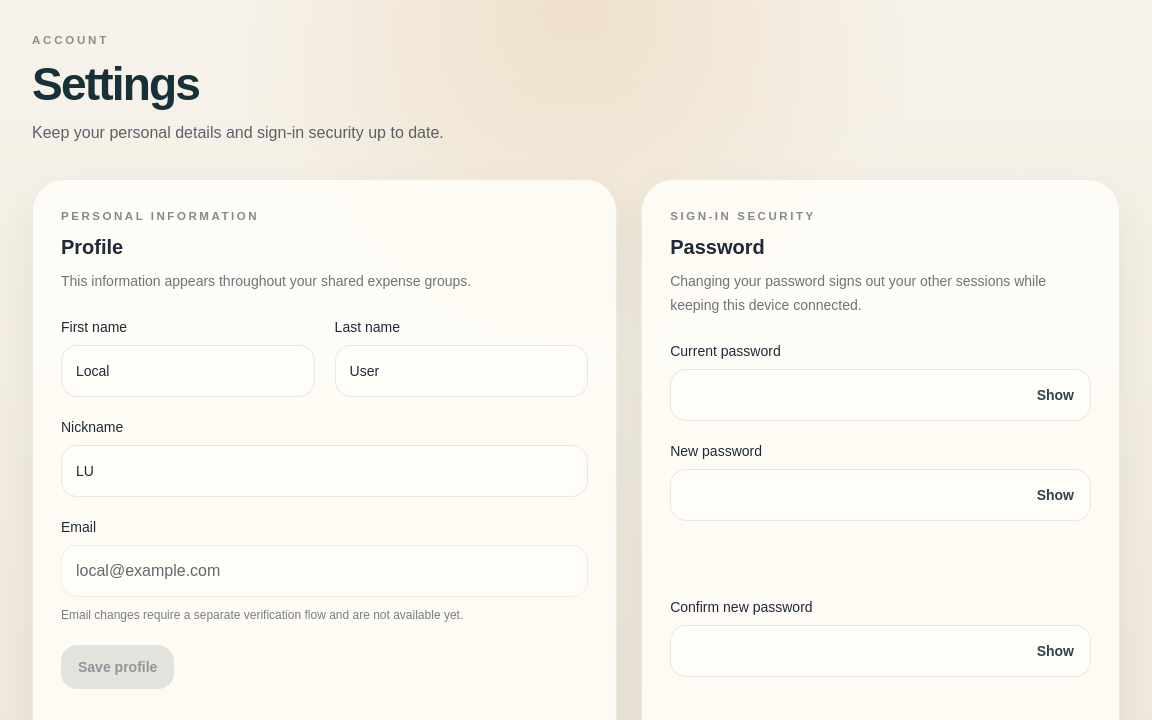
Test case: AccountSettings › updates editable profile fields while keeping email read-only
This screenshot has width=1152, height=720.
Check: the field labelled "Email" holds "local@example.com", box [61,545,588,597]
Check: the button "Save profile" is disabled, box [61,645,174,689]
Replace the text in the field labelled "First name" with " Taylor " at (188, 371), box [61,345,315,397]
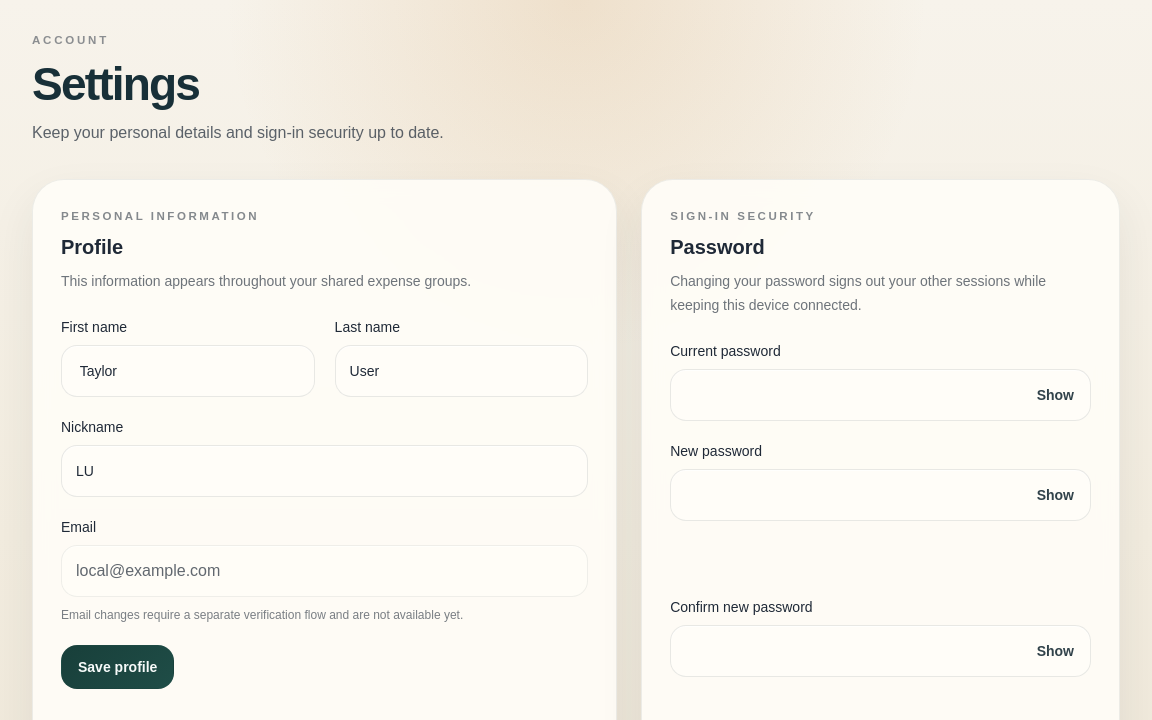
Check: the button "Save profile" is enabled, box [61,645,174,689]
Replace the text in the field labelled "Last name" with " Swift " at (461, 371), box [335,345,588,397]
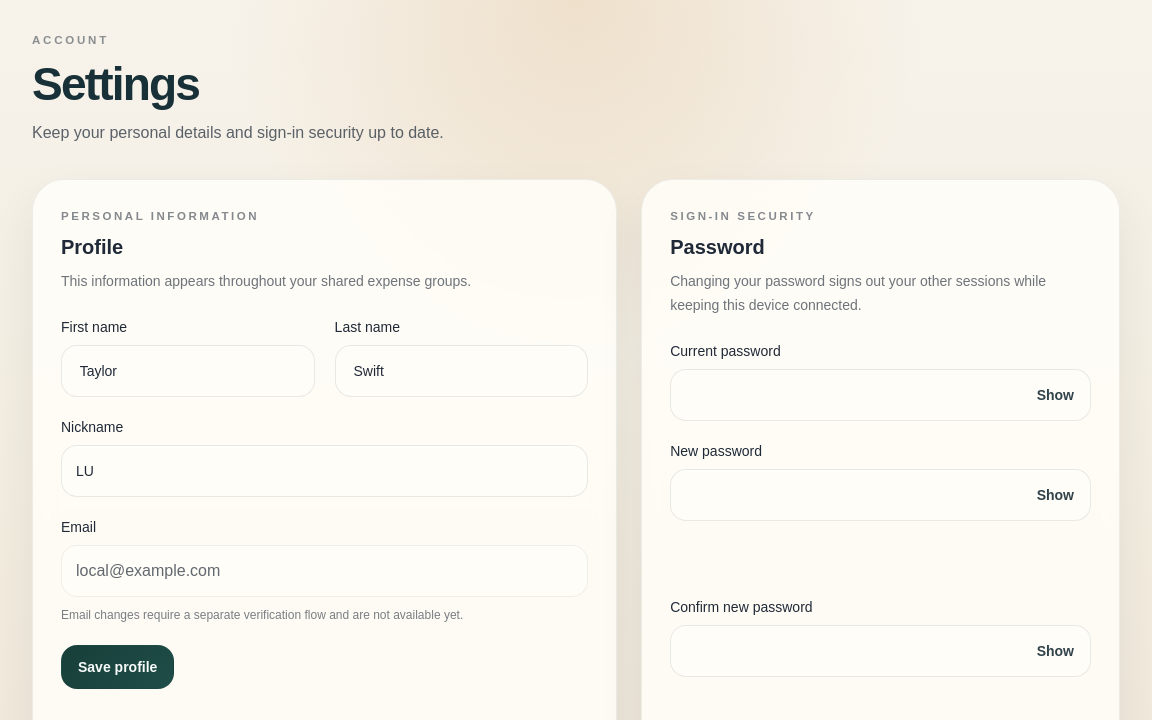
Click the button "Save profile" at (118, 667), box [61,645,174,689]
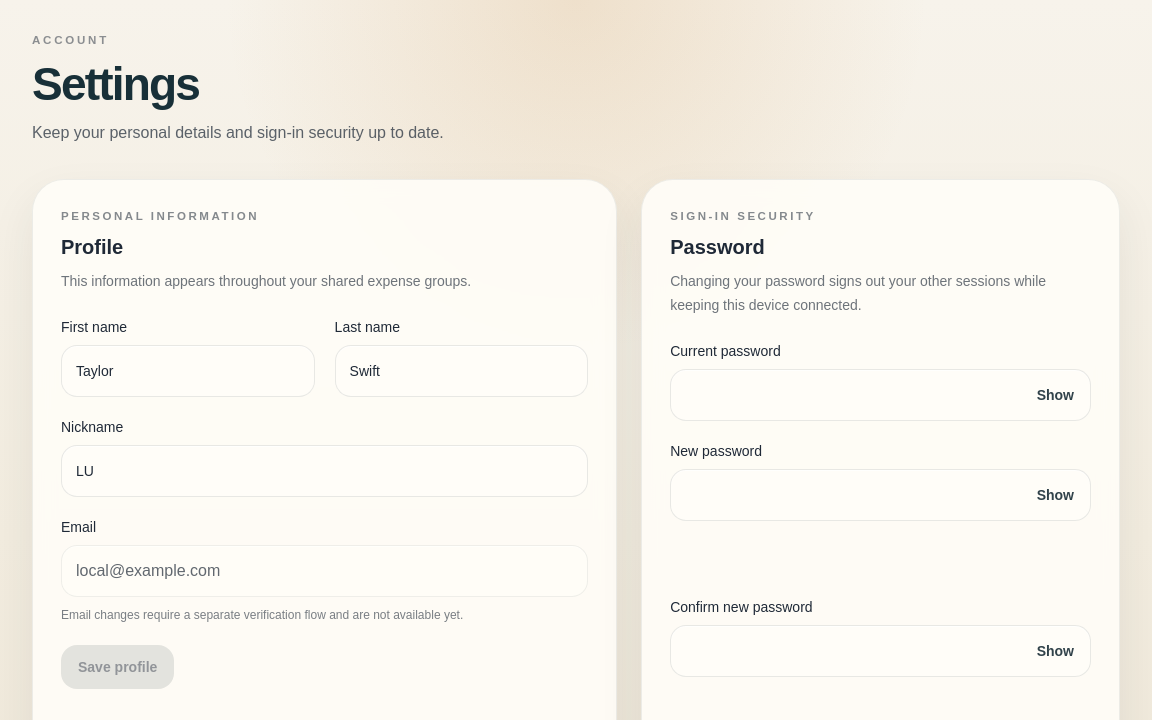
Check: the button "Save profile" is disabled, box [61,645,174,689]
